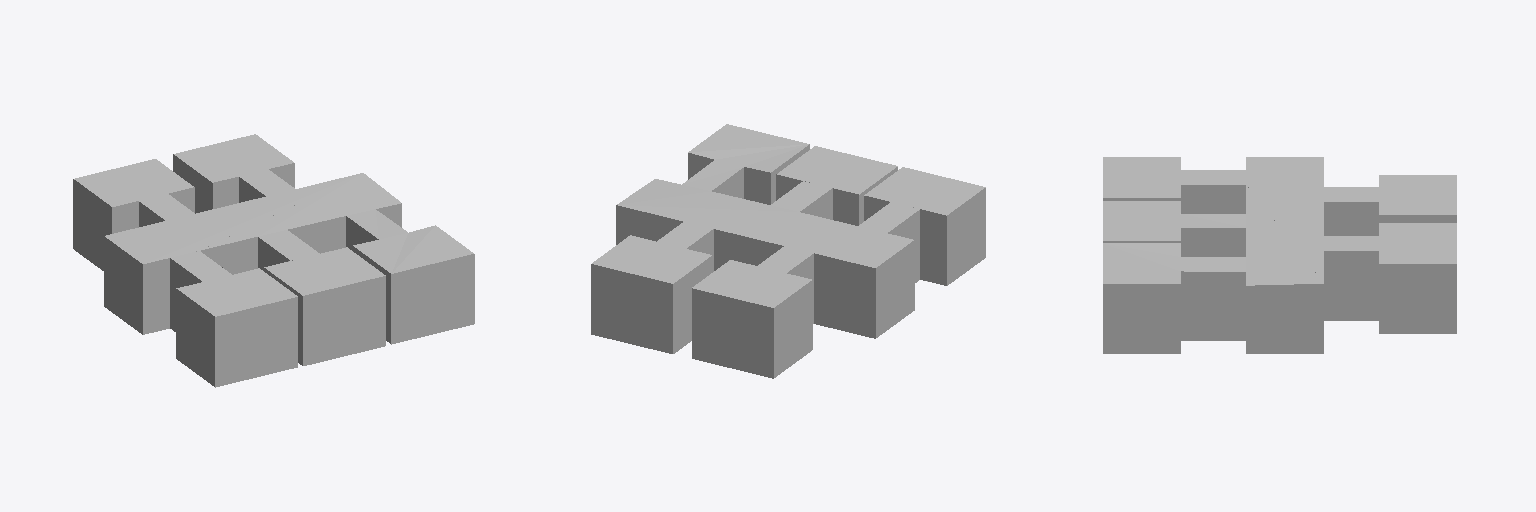
File: MapModel.obj
3 renders of one model, left to right at view 1: azimuth 30°, elevation 25°; view 2: azimuth 150°, elevation 25°; view 3: azimuth 270°, elevation 25°, orthographic.
Parts seen in each view (by area): view 1: Cube.004; view 2: Cube.004; view 3: Cube.004.
Boxes of the visible parts, x1,y1,x2,y2 form: Cube.004: [73, 134, 474, 387]; Cube.004: [591, 124, 985, 378]; Cube.004: [1103, 157, 1456, 353].
Size of the model in its own units: 7.7 by 2.01 by 9.11.